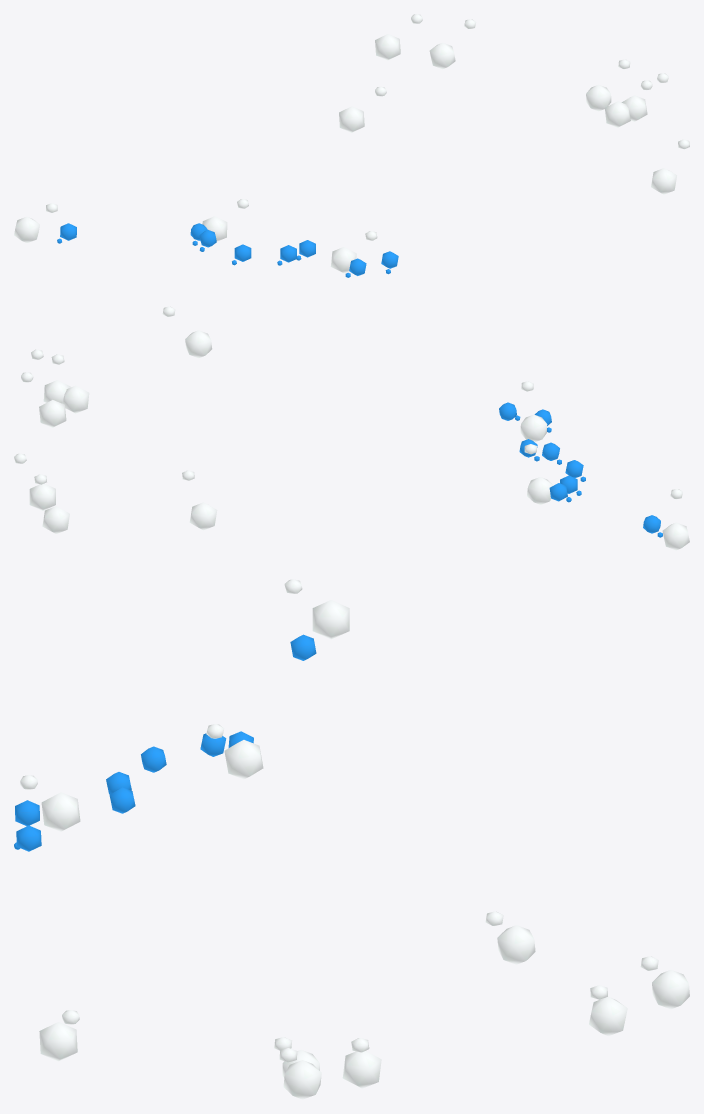
File: model_chunk_8.glb
3 renders of one model, top to bottom at view 1: azimuth 30°, elevation 25°; view 2: azimuth 150°, elevation 25°; view 3: azimuth 270°, elevation 25°, orthographic. The views are drawn at different scales.
Visible parts, largest first — view 1: SplashParticle01694, SplashParticle01653, SplashParticle01692, SplashParticle01673, SplashParticle01670, SplashParticle01658, SplashParticle01679, SplashParticle01683, SplashParticle01672, SplashParticle01682; view 2: SplashParticle01658, SplashParticle01673, SplashParticle01694, SplashParticle01653, SplashParticle01692, SplashParticle01683, SplashParticle01679, SplashParticle01670, SplashParticle01682, SplashParticle01672; view 3: SplashParticle01679, SplashParticle01692, SplashParticle01683, SplashParticle01672, SplashParticle01694, SplashParticle01673, SplashParticle01682, SplashParticle01653, SplashParticle01658.
Boxes of the visible parts, box(x1,y1,x2,y2) form: SplashParticle01694: box(339, 86, 386, 132); SplashParticle01653: box(375, 14, 422, 60); SplashParticle01692: box(651, 139, 689, 194); SplashParticle01673: box(586, 59, 630, 111); SplashParticle01670: box(605, 80, 652, 127); SplashParticle01658: box(429, 19, 476, 69); SplashParticle01679: box(14, 203, 57, 242); SplashParticle01683: box(330, 231, 377, 273); SplashParticle01672: box(621, 73, 668, 121); SplashParticle01682: box(202, 199, 248, 241); SplashParticle01658: box(14, 453, 55, 510); SplashParticle01673: box(21, 372, 66, 427); SplashParticle01694: box(182, 470, 217, 530); SplashParticle01653: box(34, 474, 69, 533); SplashParticle01692: box(162, 306, 212, 358); SplashParticle01683: box(520, 381, 547, 442); SplashParticle01679: box(662, 489, 689, 550); SplashParticle01670: box(51, 354, 89, 413); SplashParticle01682: box(524, 444, 553, 504); SplashParticle01672: box(31, 349, 70, 403); SplashParticle01679: box(284, 579, 349, 639); SplashParticle01692: box(39, 1010, 79, 1061); SplashParticle01683: box(20, 775, 80, 831); SplashParticle01672: box(279, 1048, 321, 1099); SplashParticle01694: box(485, 911, 535, 964); SplashParticle01673: box(342, 1038, 381, 1088); SplashParticle01682: box(206, 724, 263, 779); SplashParticle01653: box(640, 956, 689, 1009); SplashParticle01658: box(589, 985, 627, 1036).
Bounding box in the file's own units: 1.13 × 0.1284 × 0.6949.
Materials: 1 (1 with a texture image).
